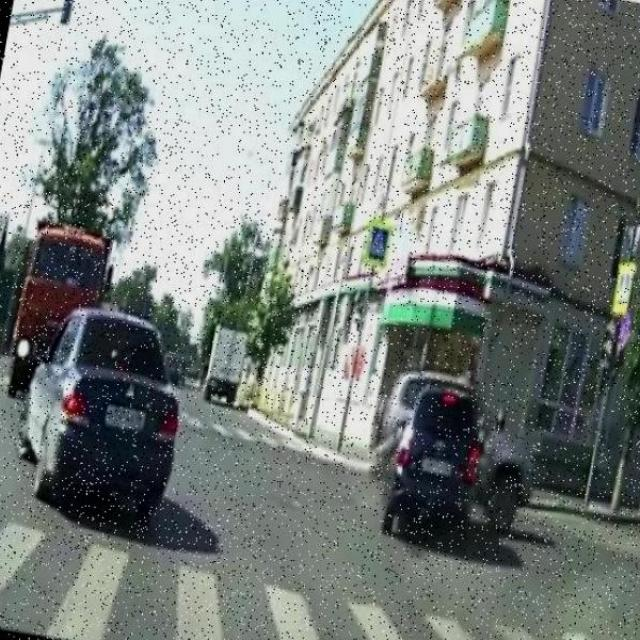accident: (356, 353, 554, 583)
